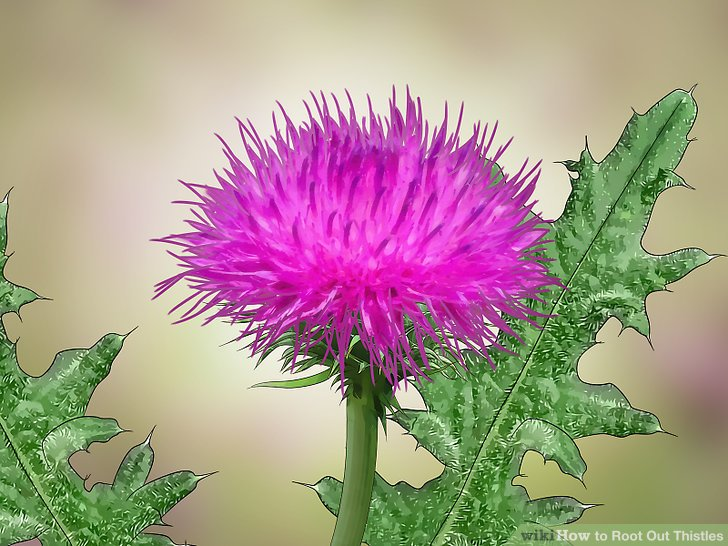thistle: (192, 91, 555, 399)
